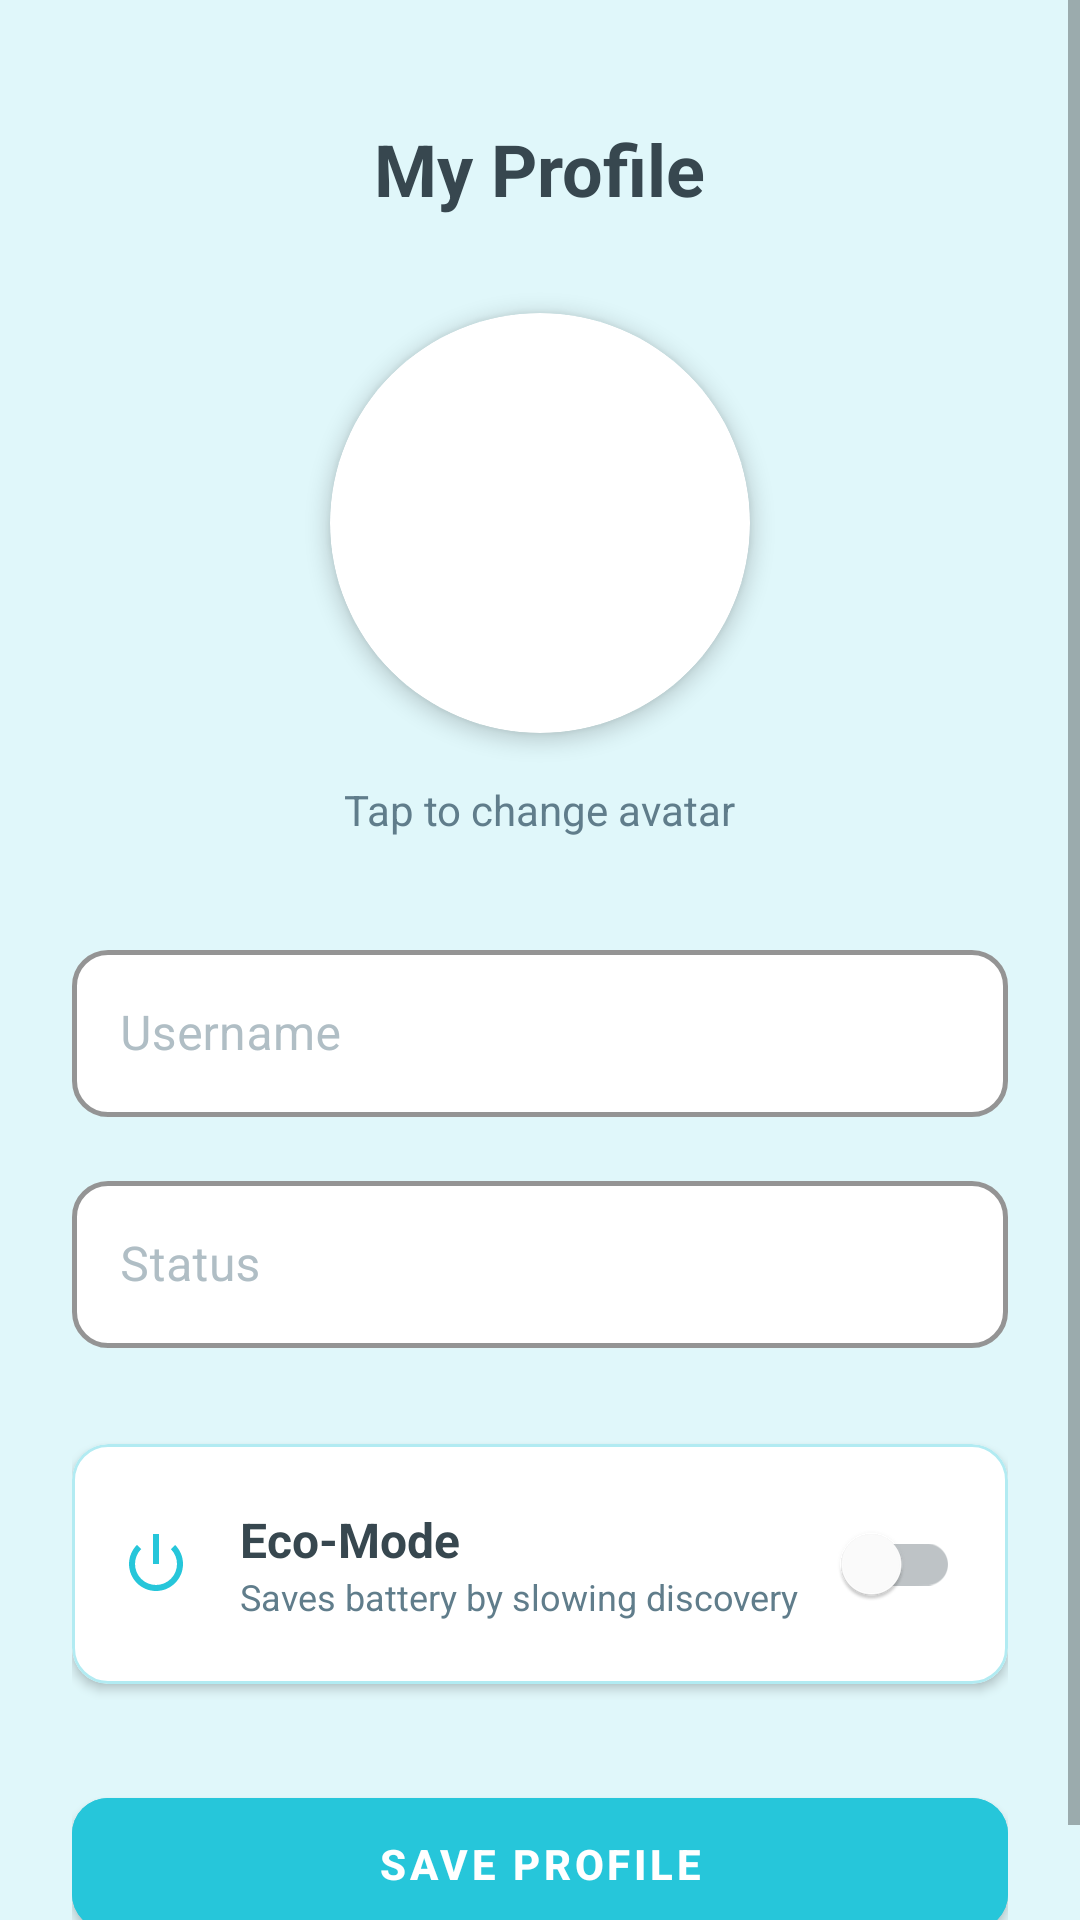

Icon bounding boxes for this 1080*1920 phone screenshot, format (x1, y1, x2, y2):
lock power off: (129, 1534, 183, 1591)
